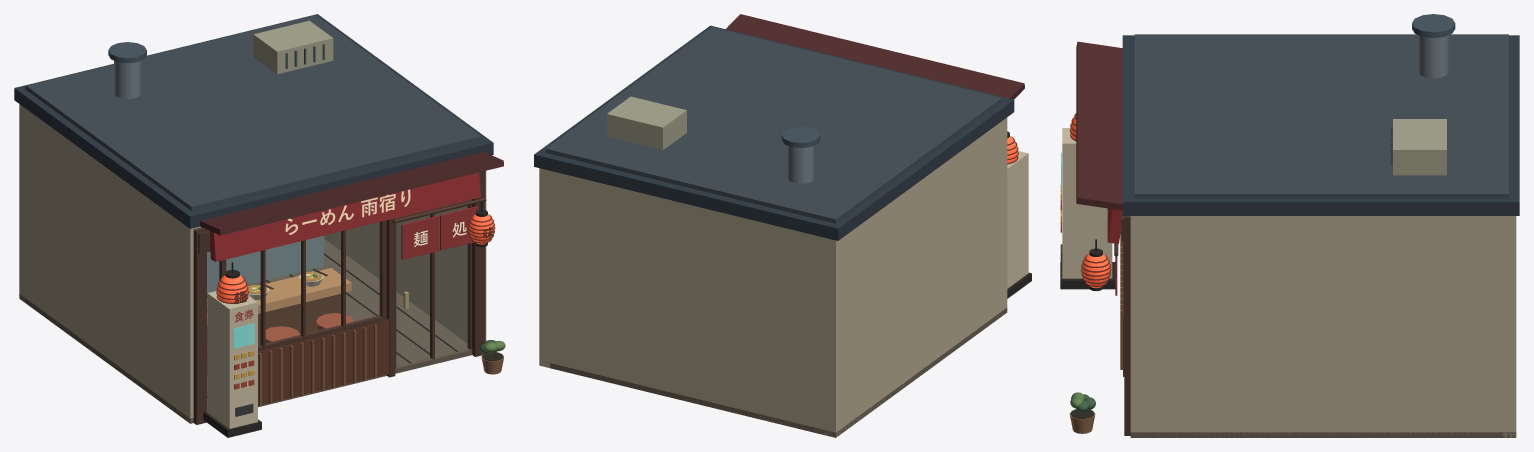
Rendered from ramen.glb.
The picture shows the model from 3 angles, left to right: view 1: azimuth 30°, elevation 25°; view 2: azimuth 150°, elevation 25°; view 3: azimuth 270°, elevation 25°; orthographic projection. The views are drawn at different scales.
Parts seen in each view (by area): view 1: 雨宿拉面店; view 2: 雨宿拉面店; view 3: 雨宿拉面店.
Part boxes in pixels (x1,y1,x2,y2): 雨宿拉面店: (14,14,505,437); 雨宿拉面店: (534,14,1031,437); 雨宿拉面店: (1060,14,1519,437).
Size of the model in its own units: 4.92 by 4 by 5.72.
Materials: 62 (7 with a texture image).
